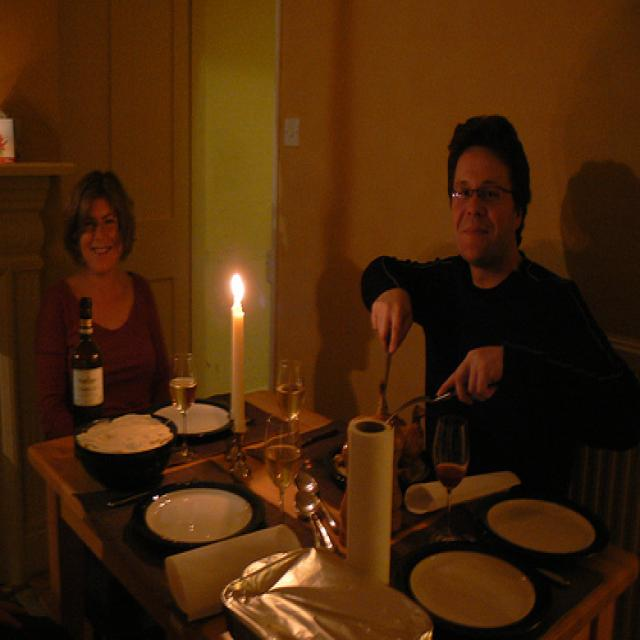Bottle: (59, 282, 108, 445)
Cup: (424, 395, 474, 539), (263, 347, 313, 433), (161, 335, 195, 457), (273, 418, 301, 542)
People: (426, 103, 564, 464), (78, 144, 145, 384)
Table: (41, 377, 640, 640)
